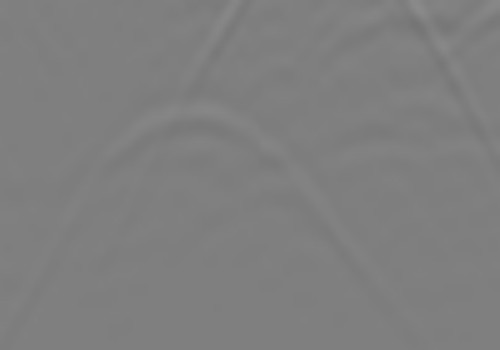hyperbola: (16, 91, 382, 312)
